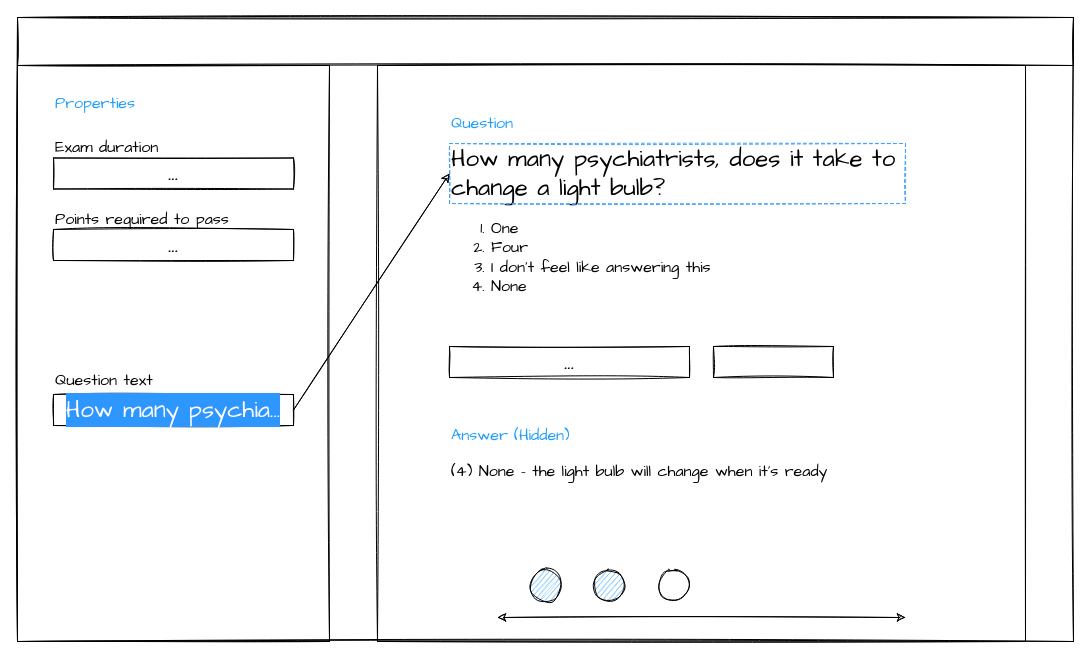
Some shapes in this 1091 by 659 pixel diagram are drawn without their labels. Here are the shapes that lost their labels. From the top down, the box of each, then its label:
(16, 16, 1074, 66): New Exam (Edit Mode)
(712, 346, 834, 378): Submit
